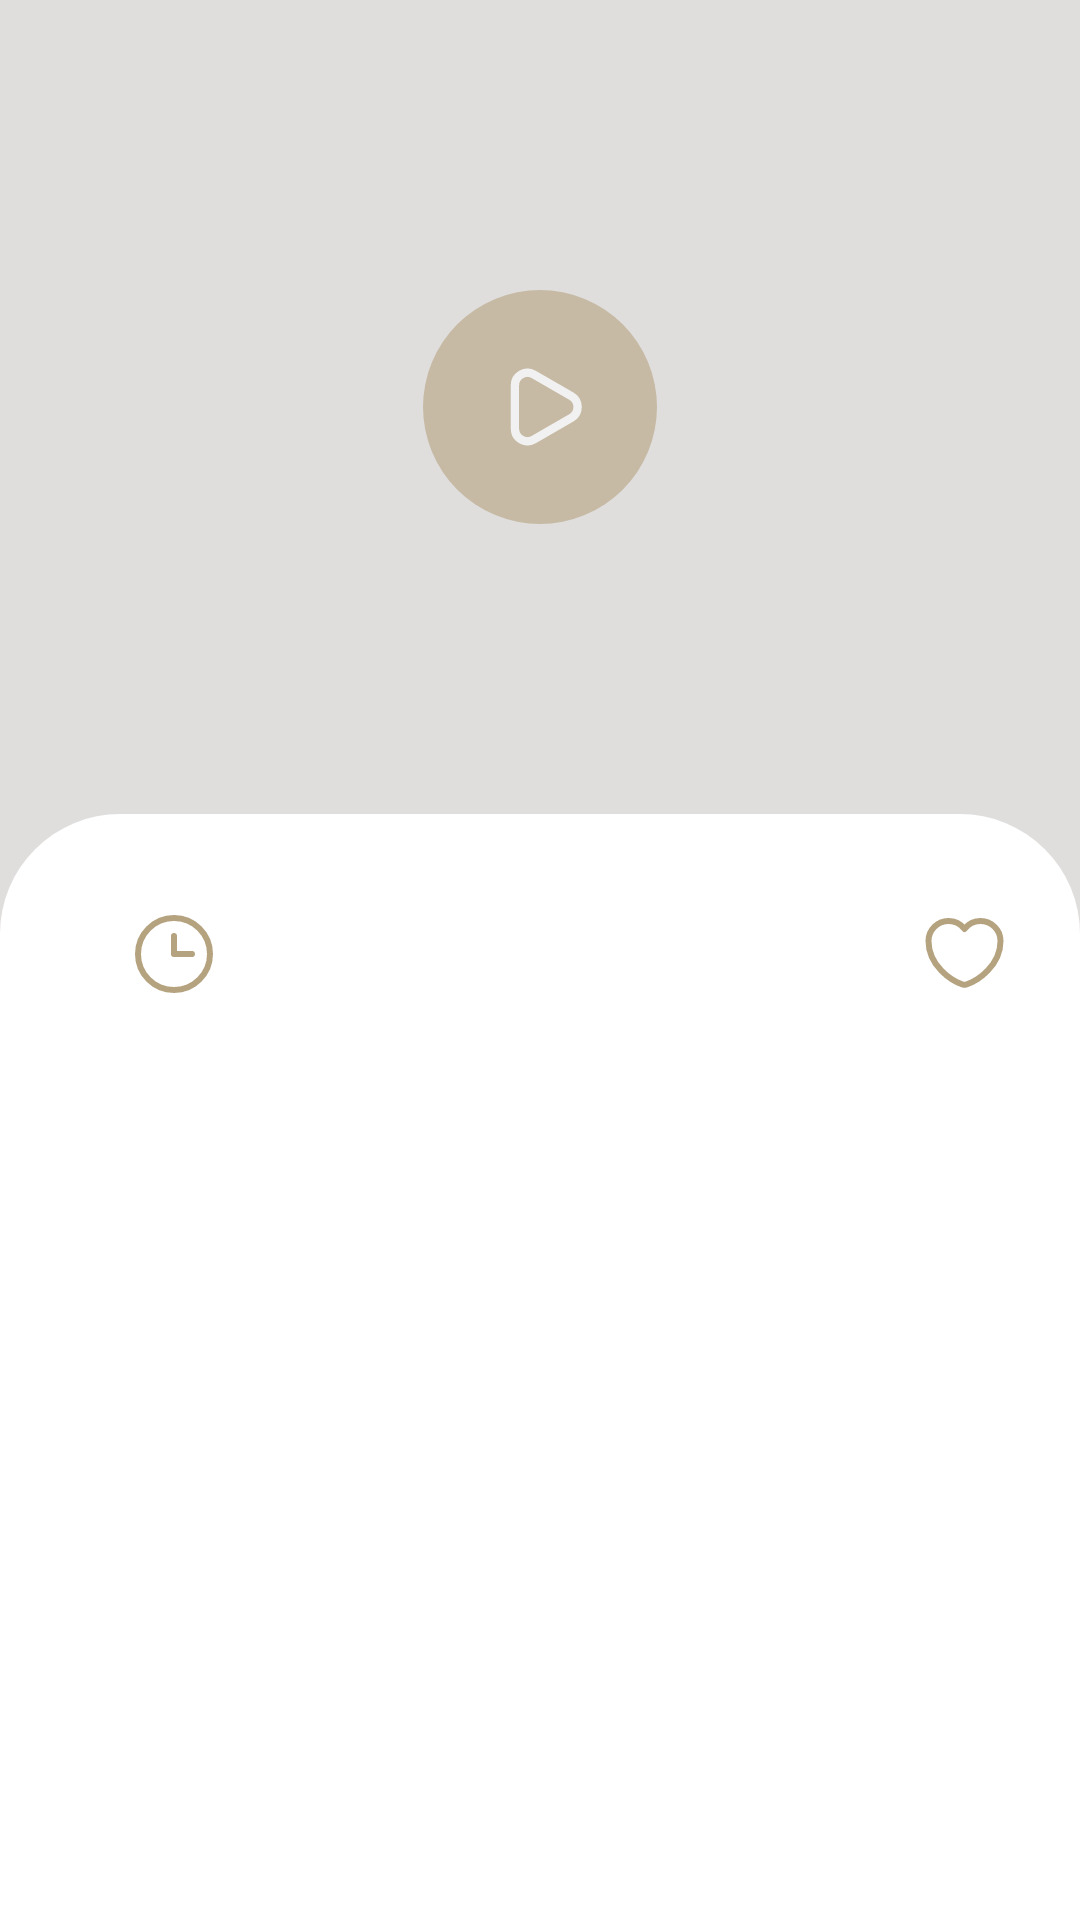

Where icons sit on this 1080px x 1920px app screen, as rect(x1, y1, x2, y2):
time: rect(135, 915, 213, 993)
